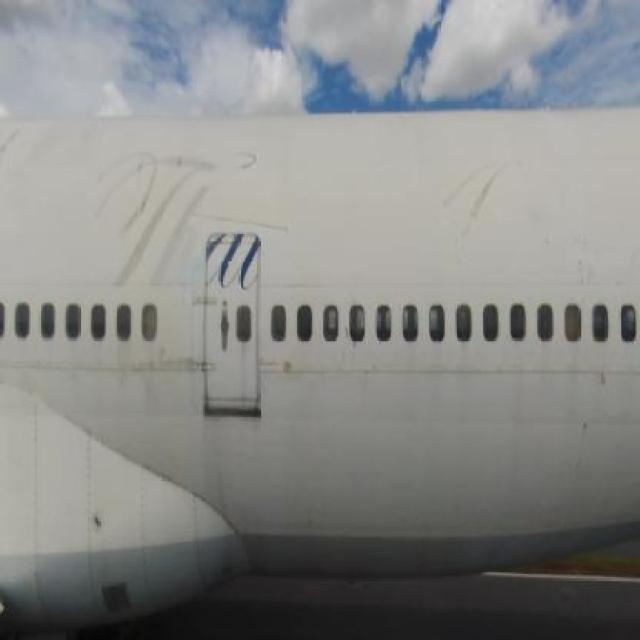Scartch: (94, 138, 212, 292), (445, 160, 497, 235), (150, 352, 216, 382), (282, 352, 318, 380)
